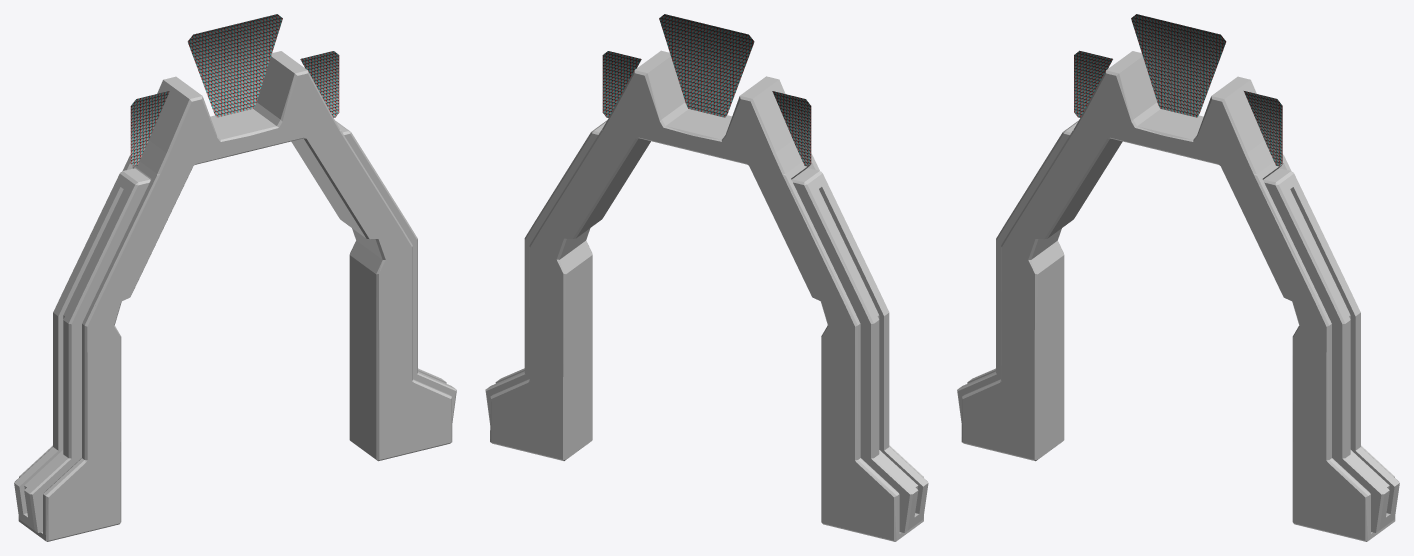
Rendered from LaserGate.FBX.
3 renders of one model, left to right at view 1: azimuth 30°, elevation 25°; view 2: azimuth 150°, elevation 25°; view 3: azimuth 330°, elevation 25°, orthographic.
Visible parts, largest first — view 1: LaserGate; view 2: LaserGate; view 3: LaserGate.
Part boxes in pixels (x1=…): LaserGate: x1=14, y1=14, x2=456, y2=541; LaserGate: x1=485, y1=14, x2=928, y2=541; LaserGate: x1=957, y1=14, x2=1399, y2=541.
Size of the model in its own units: 0.6795 by 0.6968 by 0.0792.
